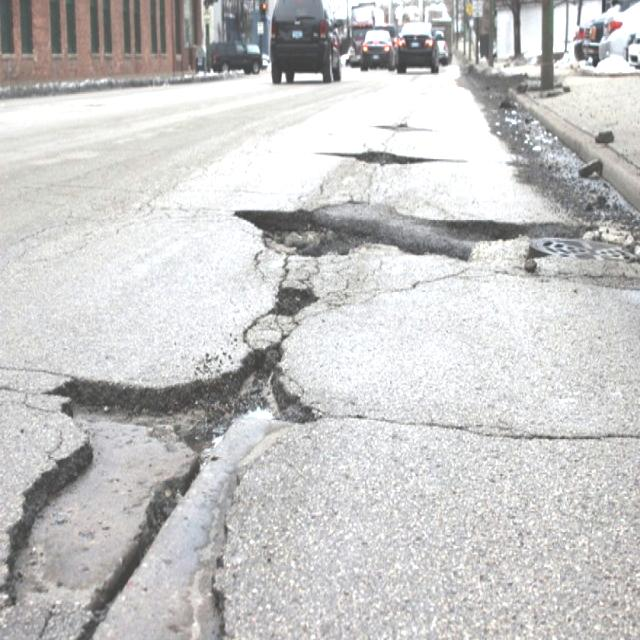Pothole: (5, 316, 338, 640), (228, 190, 640, 320), (313, 145, 498, 178)
